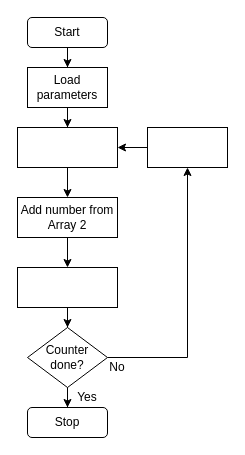
Image size: 245x455. Some labels were removed from this diagram. Each missing label, with the centre of its shape:
"Increment index" goes at [187,147].
"Load number from Array 1" goes at [67,147].
"Save number into output array" goes at [67,287].
